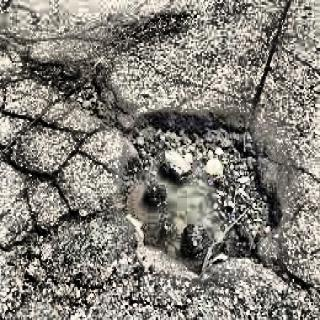crack: (3, 106, 116, 181), (4, 150, 79, 214), (20, 186, 61, 240)
pothole: (114, 109, 294, 274), (34, 61, 128, 134)
